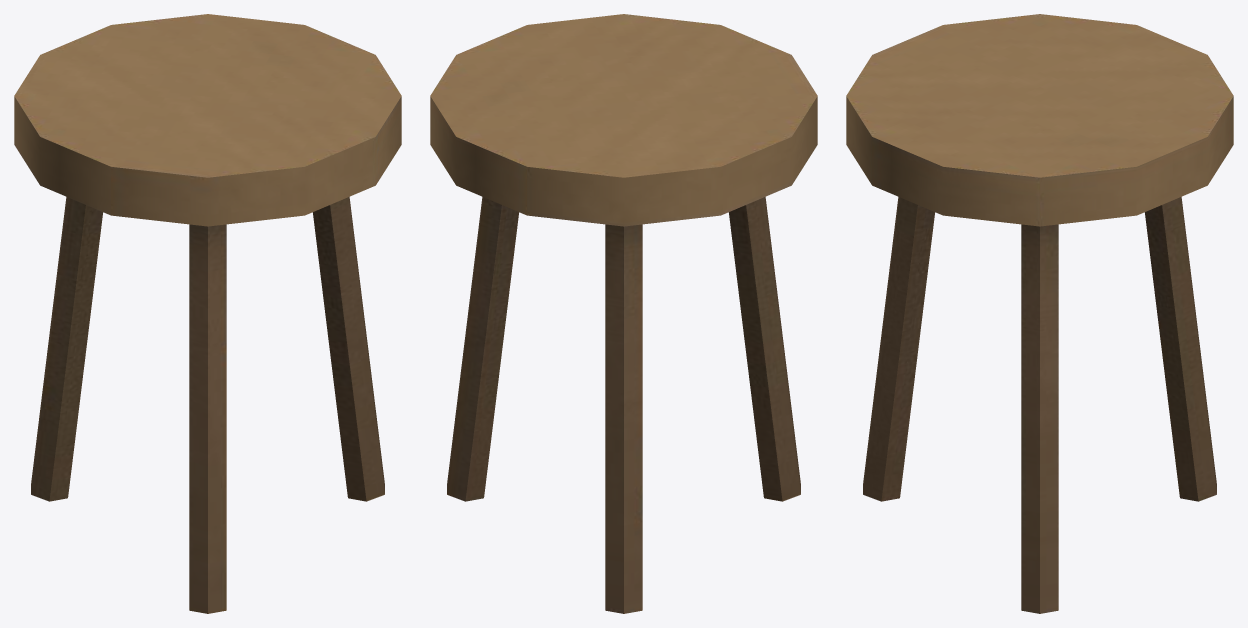
File: stool.glb
3 renders of one model, left to right at view 1: azimuth 30°, elevation 25°; view 2: azimuth 150°, elevation 25°; view 3: azimuth 270°, elevation 25°, orthographic.
Parts seen in each view (by area): view 1: leg0; view 2: leg0; view 3: leg0.
Part boxes in pixels (bbox=[...]): leg0: bbox=[14, 14, 401, 613]; leg0: bbox=[430, 14, 817, 613]; leg0: bbox=[846, 14, 1233, 613].
Bounding box in the file's own units: 0.3698 × 0.4475 × 0.36.
1 material, 1 textured.
